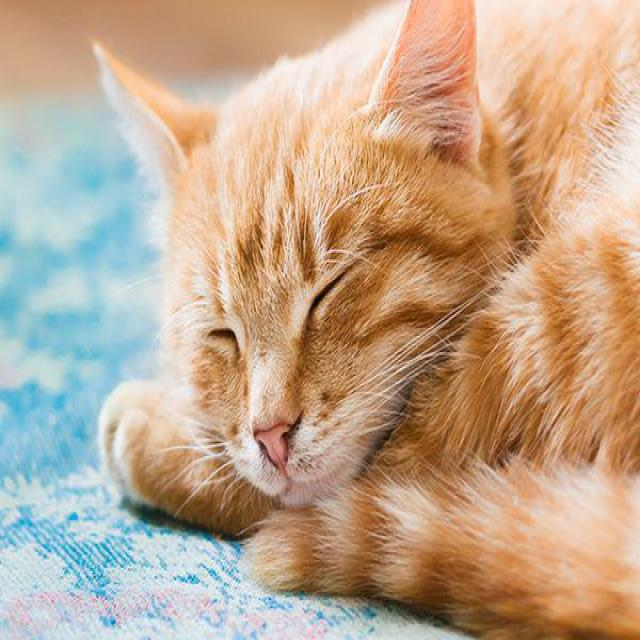Cat: (71, 4, 491, 511)
